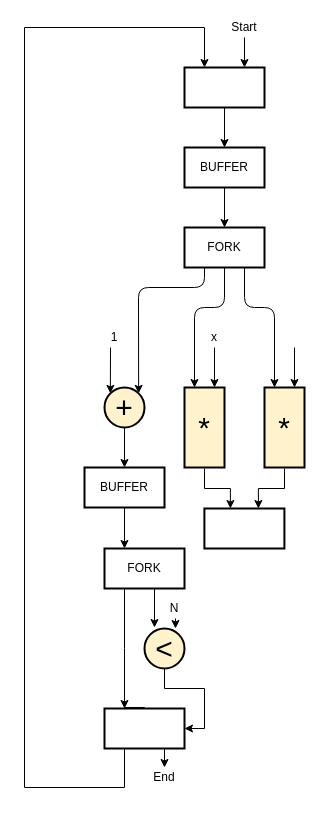
Image size: 323x813. Some labels were removed from this diagram. Each missing label, with the centre of its shape:
BRANCH: the point at 144,728
MERGE: the point at 224,87
STORE: the point at 244,528
